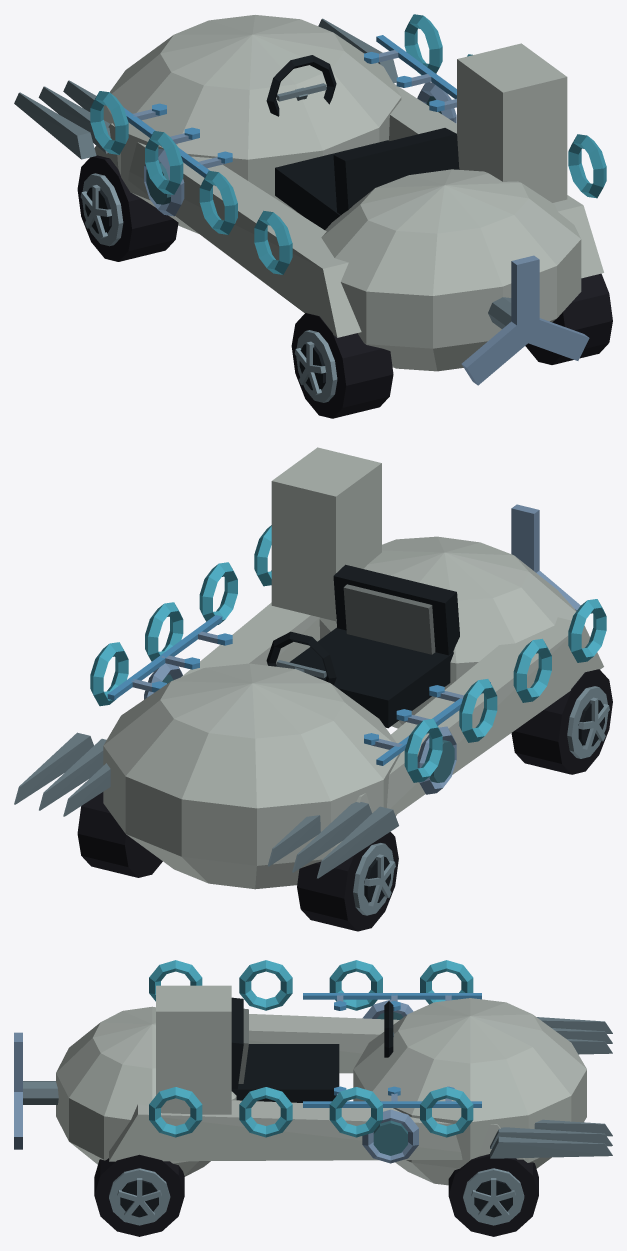
The model's file is kart.glb.
3 views of the same model, one above another, from view 1: azimuth 30°, elevation 25°; view 2: azimuth 150°, elevation 25°; view 3: azimuth 270°, elevation 25° (orthographic). The views are drawn at different scales.
Visible parts, largest first — view 1: identity-submarine-submarine-rounded-bow-and-stern-propeller, identity-submarine-driver-cockpit, identity-submarine-motif-water, wheel-rear-left, wheel-front-left, identity-submarine-motif-claws, identity-submarine-motif-circuit, wheel-rear-right; view 2: identity-submarine-submarine-rounded-bow-and-stern-propeller, identity-submarine-driver-cockpit, identity-submarine-motif-water, identity-submarine-motif-claws, wheel-rear-left, wheel-front-left, identity-submarine-motif-circuit, wheel-front-right; view 3: identity-submarine-submarine-rounded-bow-and-stern-propeller, identity-submarine-motif-water, identity-submarine-driver-cockpit, wheel-rear-right, wheel-front-right, identity-submarine-motif-claws, identity-submarine-motif-circuit.
Part boxes in pixels (box(x1,y1,x2,y2)): identity-submarine-submarine-rounded-bow-and-stern-propeller: box(94, 15, 603, 385); identity-submarine-driver-cockpit: box(266, 55, 459, 229); identity-submarine-motif-water: box(90, 14, 606, 274); wheel-rear-left: box(291, 313, 393, 418); wheel-front-left: box(77, 155, 178, 261); identity-submarine-motif-claws: box(14, 18, 397, 159); identity-submarine-motif-circuit: box(124, 35, 456, 185); wheel-rear-right: box(525, 273, 612, 364); identity-submarine-submarine-rounded-bow-and-stern-propeller: box(103, 447, 603, 889); identity-submarine-driver-cockpit: box(266, 564, 459, 728); identity-submarine-motif-water: box(90, 525, 606, 782); identity-submarine-motif-claws: box(14, 732, 398, 878); wheel-rear-left: box(511, 669, 612, 774); wheel-front-left: box(297, 832, 398, 931); identity-submarine-motif-circuit: box(107, 615, 490, 765); wheel-front-right: box(77, 792, 162, 877); identity-submarine-submarine-rounded-bow-and-stern-propeller: box(14, 985, 586, 1185); identity-submarine-motif-water: box(149, 960, 473, 1137); identity-submarine-driver-cockpit: box(231, 997, 393, 1102); wheel-rear-right: box(94, 1154, 184, 1236); wheel-front-right: box(448, 1154, 538, 1236); identity-submarine-motif-claws: box(490, 1017, 612, 1158); identity-submarine-motif-circuit: box(303, 993, 481, 1107).
Size of the model in its own units: 1.73 by 1.36 by 3.31.
